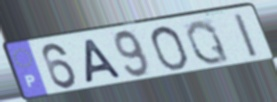6: (41, 42, 78, 91)
9: (114, 28, 152, 80)
A: (83, 37, 126, 86)
I: (231, 11, 261, 60)
O: (148, 24, 191, 72)
Q: (184, 18, 233, 66)
